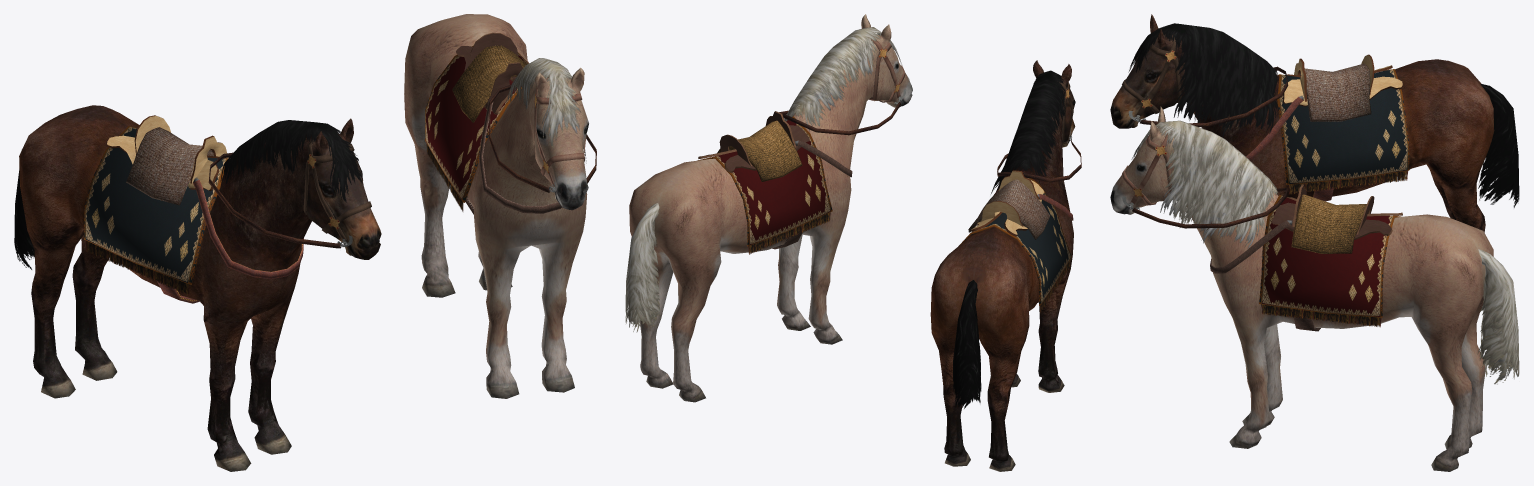
File: balt_horse_12-13th_century.glb
3 views of the same model, side by side, from view 1: azimuth 30°, elevation 25°; view 2: azimuth 150°, elevation 25°; view 3: azimuth 270°, elevation 25° (orthographic). The views are drawn at different scales.
Visible parts, largest first — view 1: Object_2, Object_3, Object_4, Object_5; view 2: Object_3, Object_2, Object_5, Object_4; view 3: Object_3, Object_2, Object_5, Object_4.
Part boxes in pixels (<box>): Object_2: <box>14,105,381,471</box>; Object_3: <box>404,14,588,398</box>; Object_4: <box>84,115,371,303</box>; Object_5: <box>425,32,596,214</box>; Object_3: <box>625,14,912,402</box>; Object_2: <box>930,60,1075,471</box>; Object_5: <box>697,39,905,254</box>; Object_4: <box>959,81,1081,313</box>; Object_3: <box>1110,106,1519,471</box>; Object_2: <box>1110,14,1519,232</box>; Object_5: <box>1122,133,1402,331</box>; Object_4: <box>1122,34,1409,201</box>.
Size of the model in its own units: 2.95 by 2.08 by 2.49.
4 materials, 4 textured.
